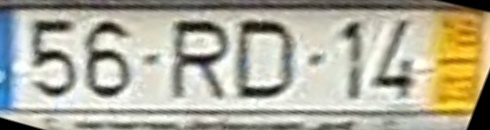1: (338, 18, 366, 105)
4: (365, 14, 418, 105)
5: (29, 19, 79, 100)
6: (80, 16, 132, 104)
D: (235, 20, 299, 103)
R: (167, 19, 232, 106)
